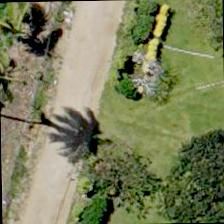Kelapa_Sawit: (0, 31, 47, 123), (0, 1, 57, 72)
